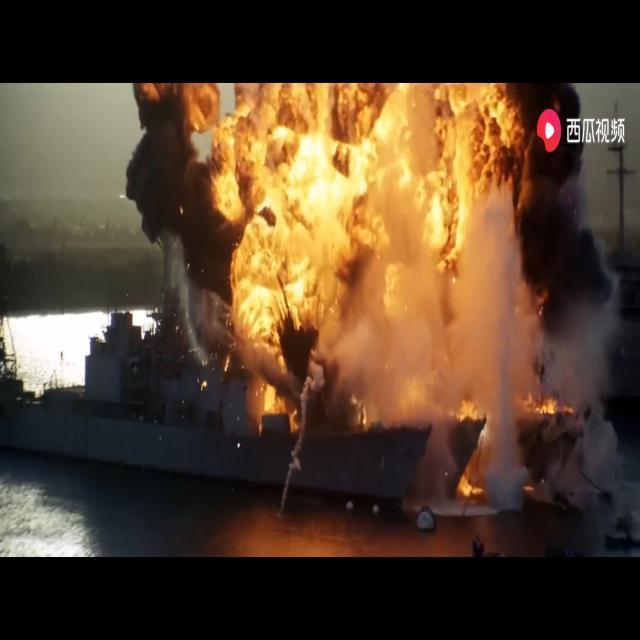fire: (118, 78, 581, 526)
